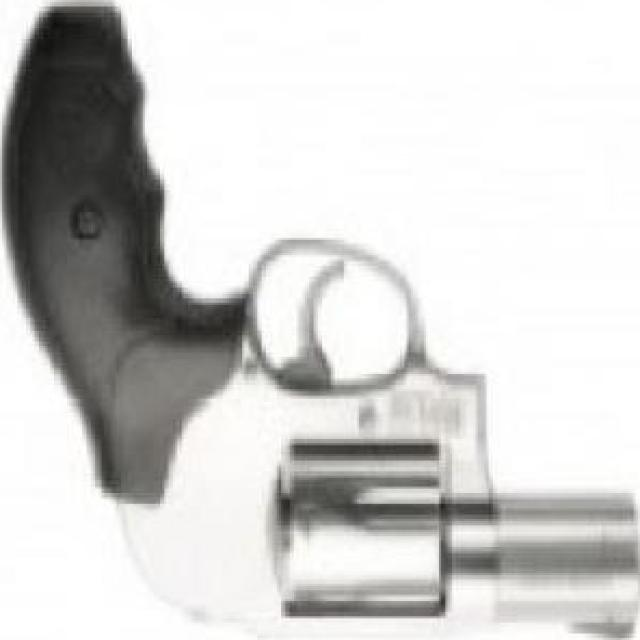pistol: (2, 0, 638, 638)
